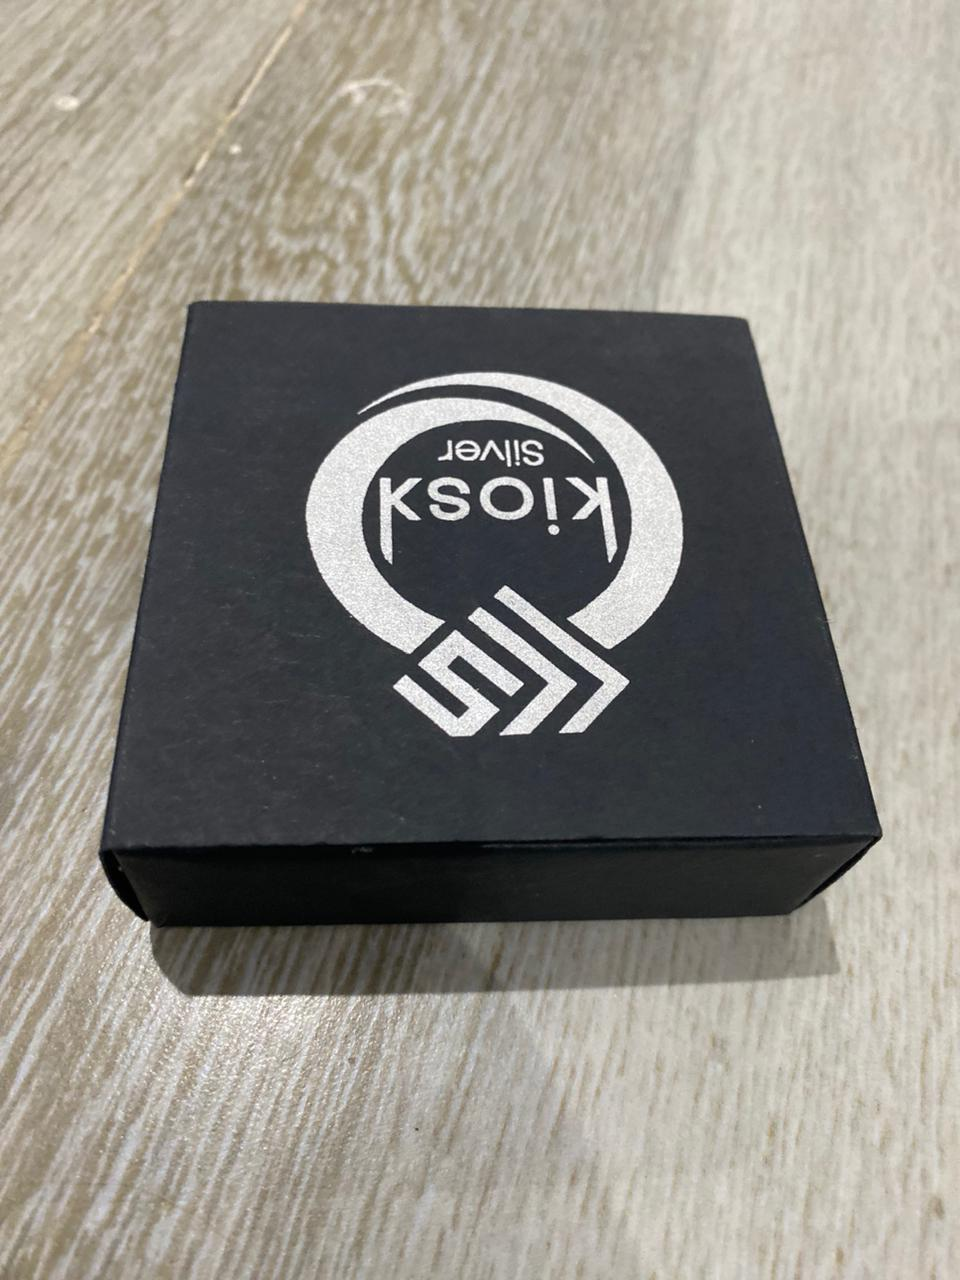Red Box: (99, 289, 888, 937)
